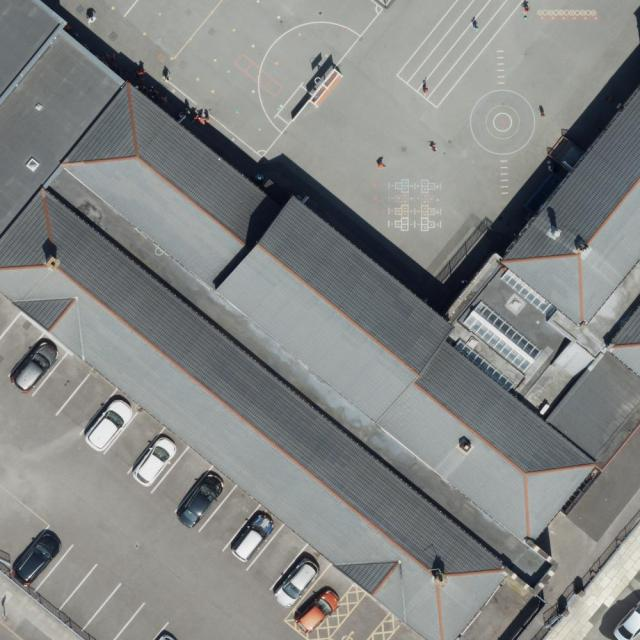roof: (0, 0, 640, 640)
skylight: (458, 305, 545, 378), (454, 339, 517, 389), (500, 267, 552, 317), (23, 151, 46, 174), (505, 294, 525, 317)
